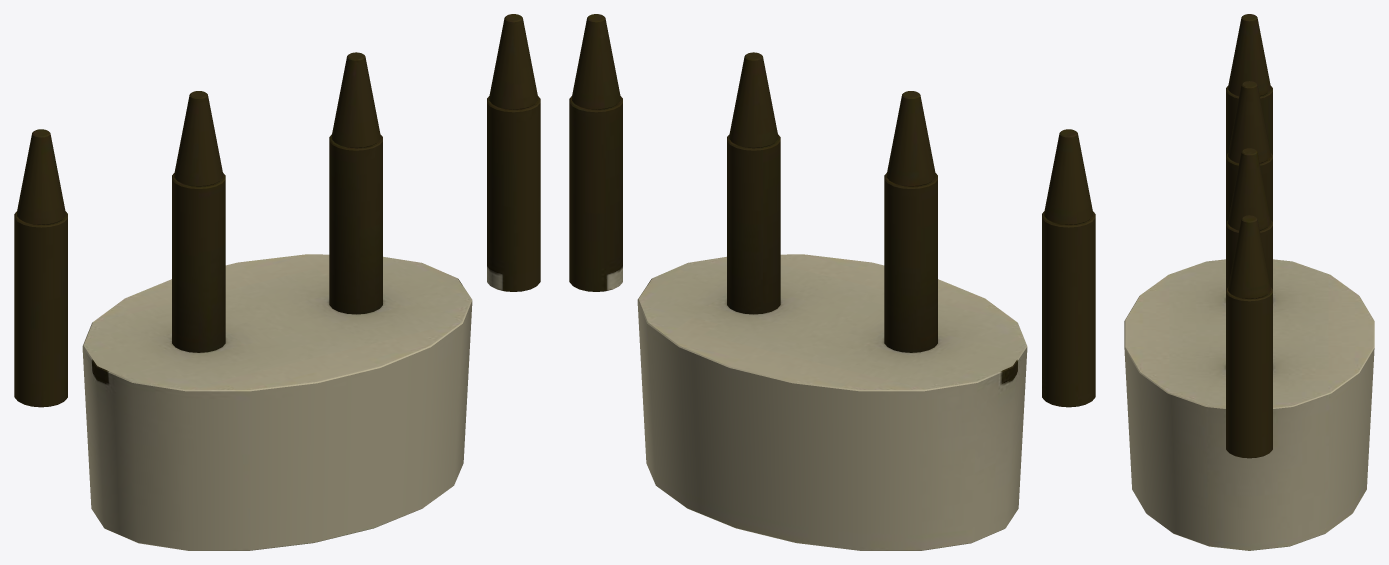
Rendered from IT_ammo_556.glb.
The picture shows the model from 3 angles, left to right: view 1: azimuth 30°, elevation 25°; view 2: azimuth 150°, elevation 25°; view 3: azimuth 270°, elevation 25°; orthographic projection. The views are drawn at different scales.
Visible parts, largest first — view 1: IT_ammo_556; view 2: IT_ammo_556; view 3: IT_ammo_556.
Boxes of the visible parts, x1=… form: IT_ammo_556: x1=14, y1=14, x2=540, y2=550; IT_ammo_556: x1=569, y1=14, x2=1095, y2=550; IT_ammo_556: x1=1124, y1=14, x2=1374, y2=550.
Bounding box in the file's own units: 0.66 × 0.5 × 0.315.
1 material, 1 textured.
